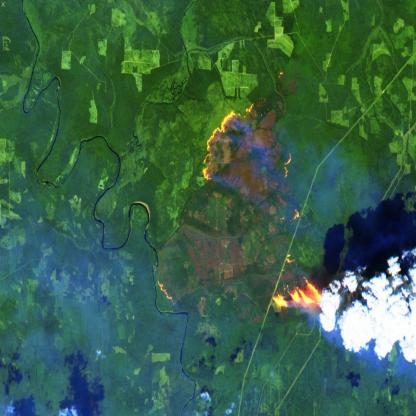fire: (197, 98, 327, 318)
